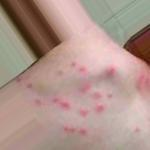Fleas: (50, 92, 73, 110), (136, 70, 149, 88), (78, 82, 92, 95), (77, 64, 88, 76), (62, 126, 76, 134), (107, 64, 116, 75), (33, 98, 44, 106), (95, 104, 105, 112), (79, 108, 90, 115), (93, 92, 102, 100), (79, 128, 88, 135), (70, 61, 76, 67), (106, 93, 112, 97), (26, 84, 31, 88)
